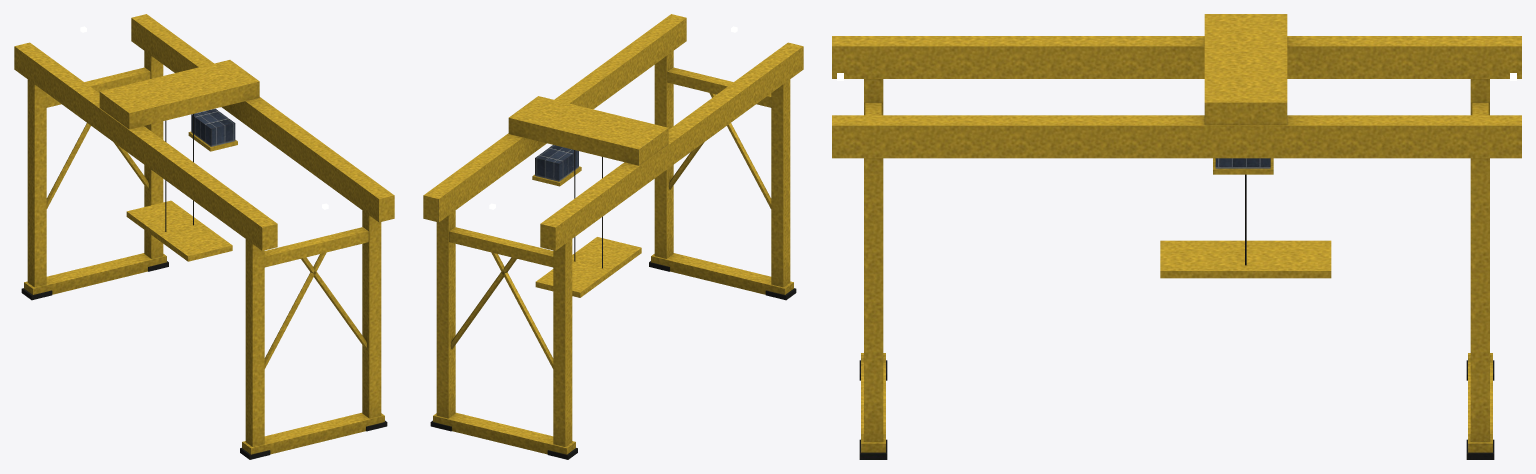
Rendered from gantry_crane.glb.
3 renders of one model, left to right at view 1: azimuth 30°, elevation 25°; view 2: azimuth 150°, elevation 25°; view 3: azimuth 270°, elevation 25°, orthographic. The views are drawn at different scales.
Visible parts, largest first — view 1: gantry_crane; view 2: gantry_crane; view 3: gantry_crane.
Part boxes in pixels (x1=…): gantry_crane: x1=14, y1=14, x2=394, y2=459; gantry_crane: x1=423, y1=14, x2=803, y2=459; gantry_crane: x1=832, y1=14, x2=1521, y2=459.
Bounding box in the file's own units: 8 × 14.2 × 25.
3 materials, 1 textured.
